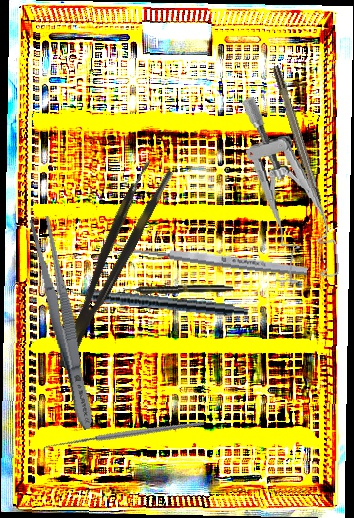Dressing Forceps: (24, 214, 102, 433)
Handpiece: (56, 281, 251, 320), (123, 283, 234, 295)
Hook Surgical: (41, 369, 205, 508), (271, 64, 332, 233)
Speculum: (240, 88, 341, 290)
Surgical Spoon: (112, 241, 309, 278)
Tissue Forceps: (40, 158, 175, 371)
